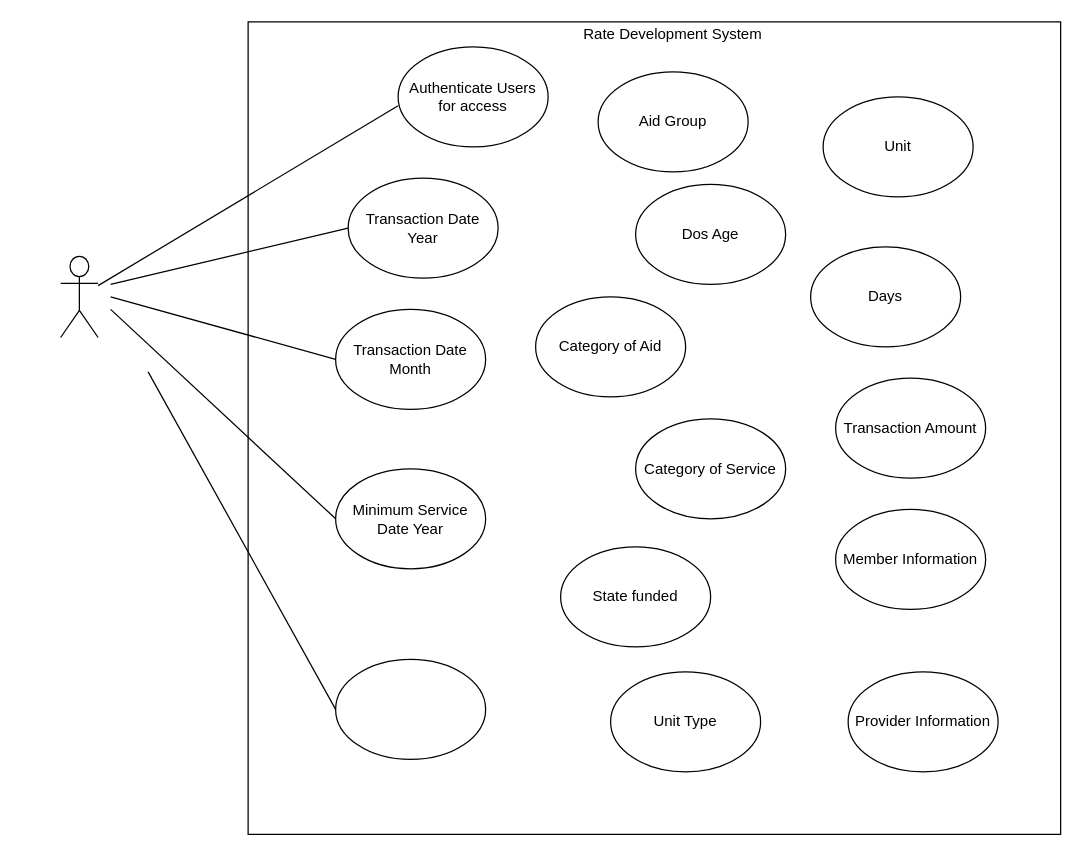
The diagram is 1083 pixels wide and 856 high, and some of its shapes have lost their labels. Each missing label, with the centre of its shape:
"Minimum Service Date Month" goes at point 410,708.
"Report Generator" goes at point 78,296.
